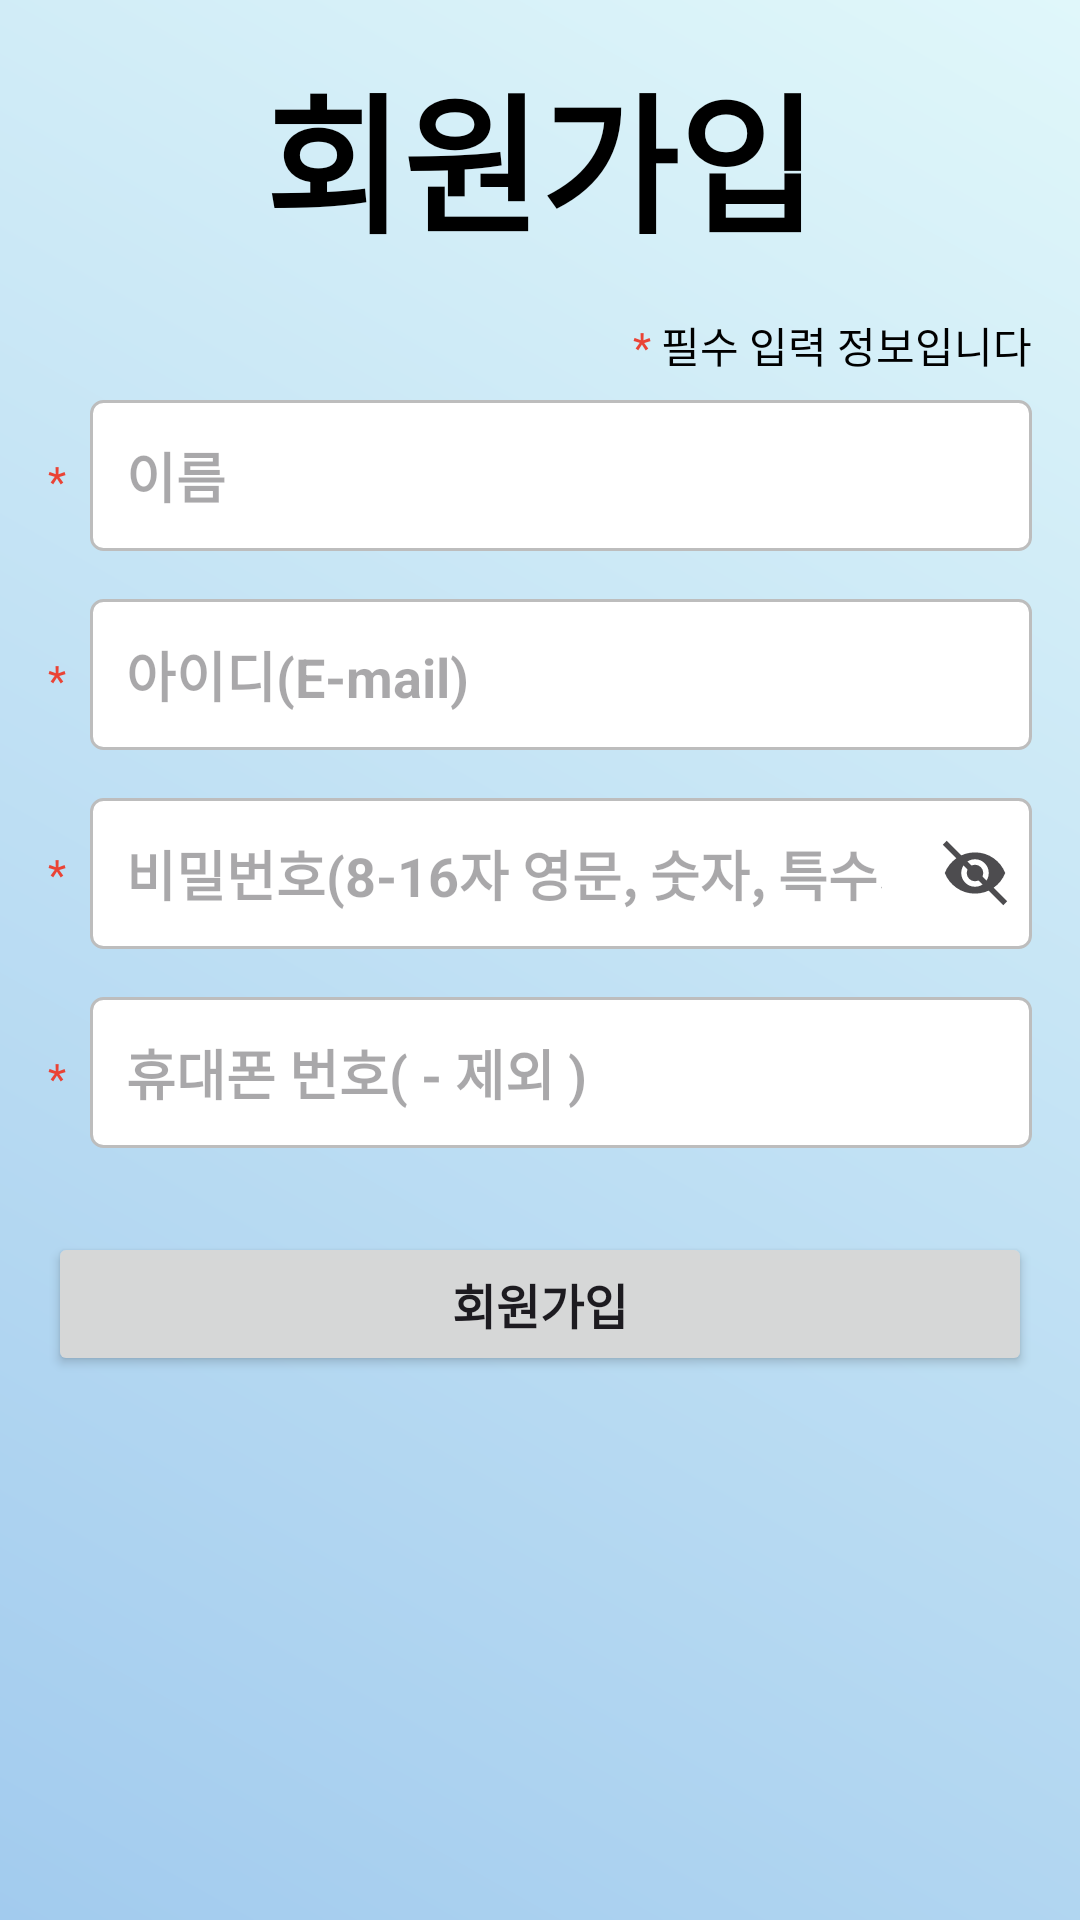

Named icons in this screenshot (1080w x 1920h) and their centers, point (x, y):
eye off: point (975, 873)
